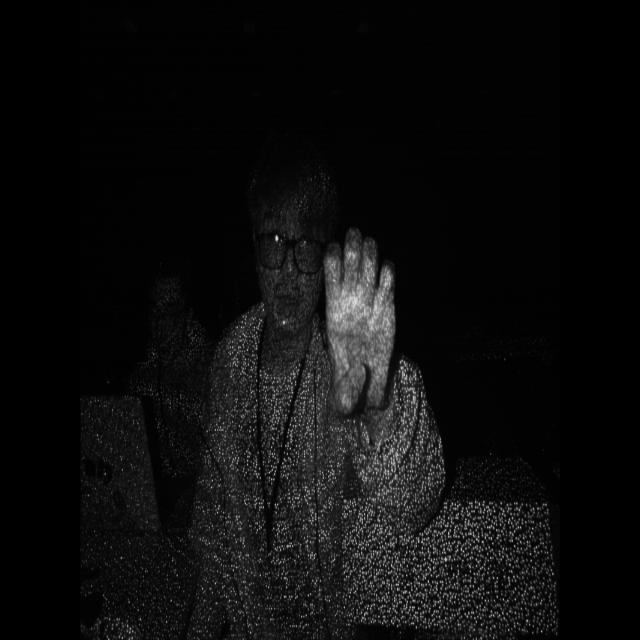E: (308, 212, 424, 436)
